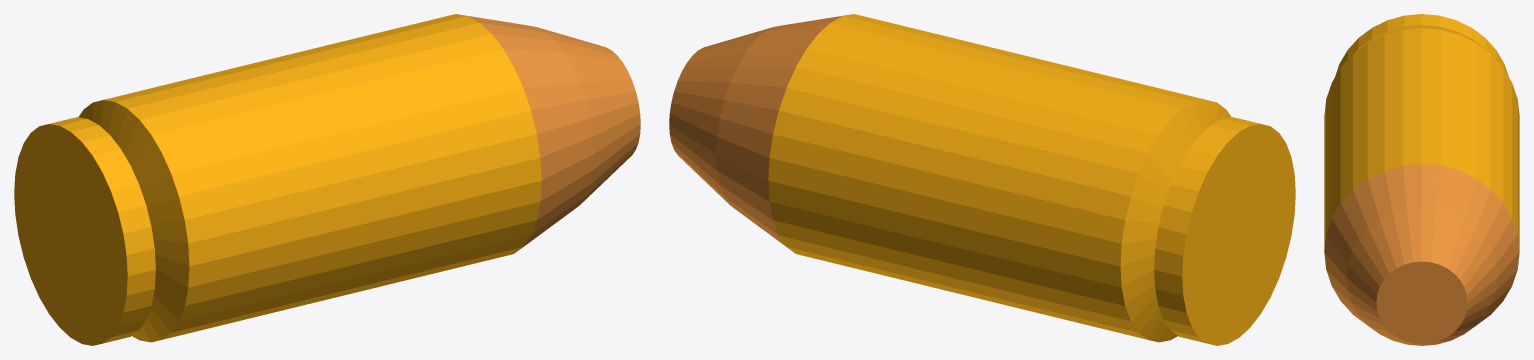
3 renders of one model, left to right at view 1: azimuth 30°, elevation 25°; view 2: azimuth 150°, elevation 25°; view 3: azimuth 270°, elevation 25°, orthographic. The views are drawn at different scales.
Parts seen in each view (by area): view 1: Bullet; view 2: Bullet; view 3: Bullet.
Part boxes in pixels (box(x1,y1,x2,y2)): Bullet: box(14, 14, 640, 345); Bullet: box(669, 14, 1295, 345); Bullet: box(1324, 14, 1519, 345).
Size of the model in its own units: 2.51 by 0.9962 by 0.9962.
